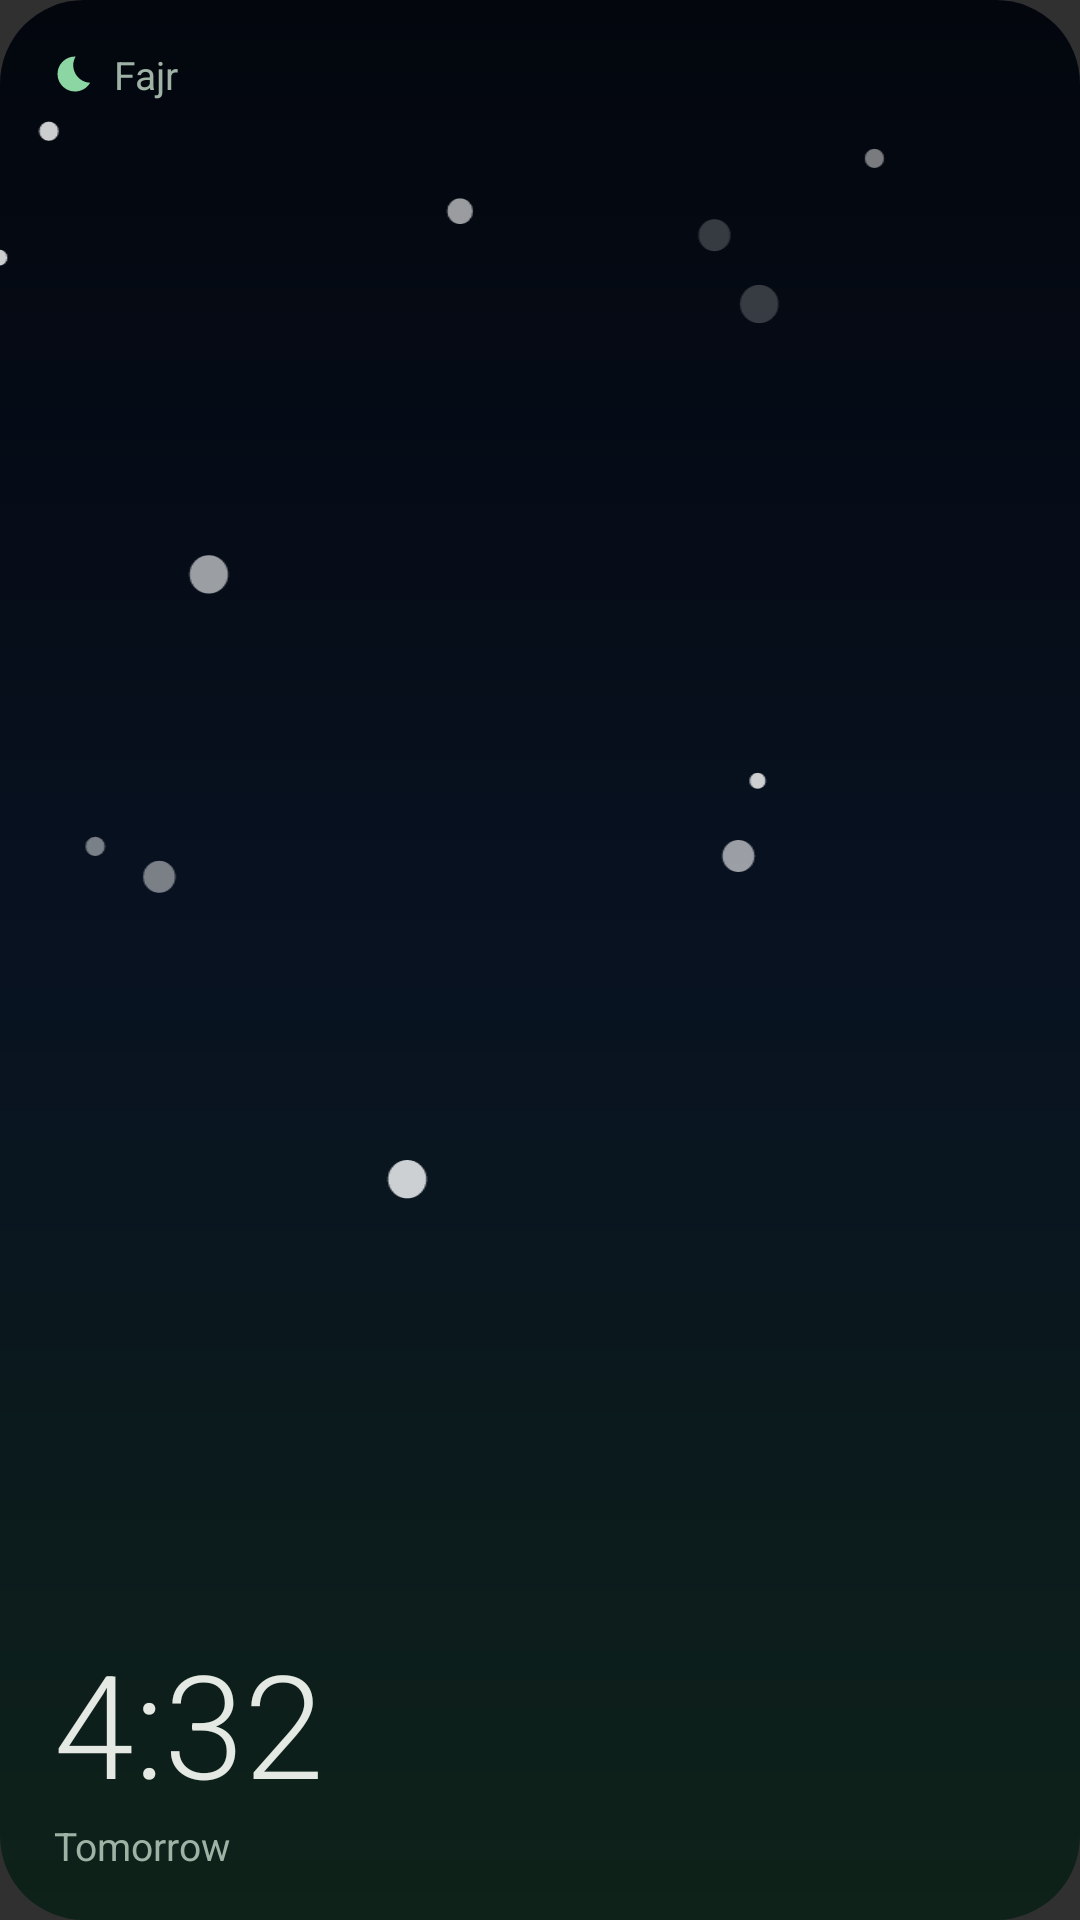

Point at icon controls on the screen. Image size 1080px x 1920px, points as [x,y].
crescent: [73,74]
